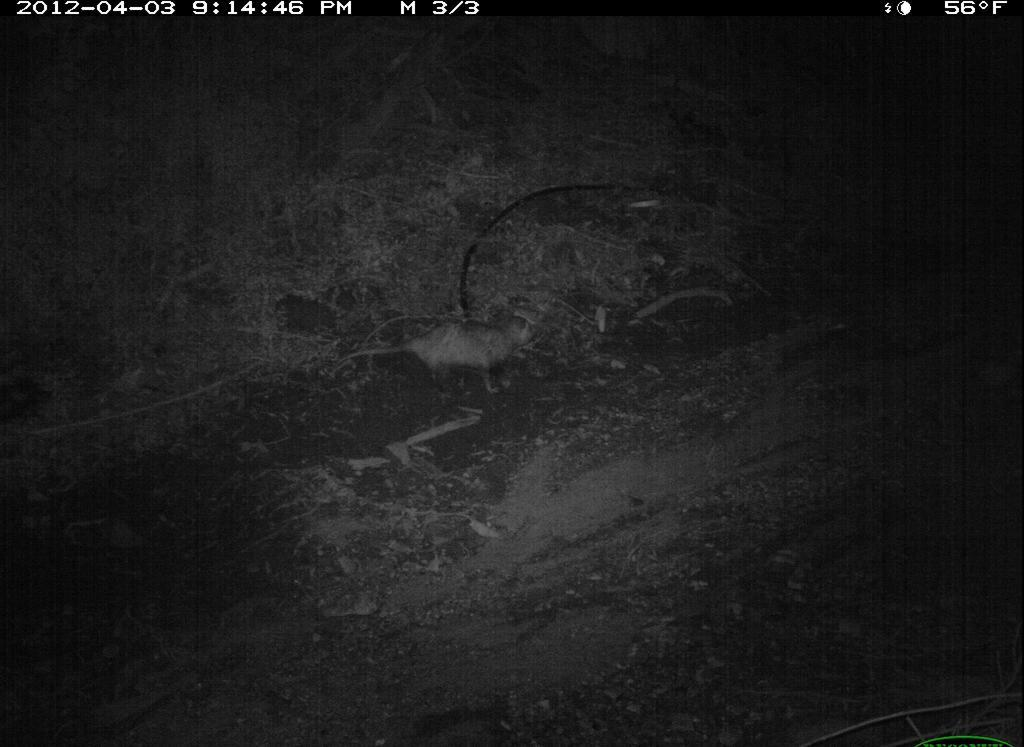opossum: (324, 304, 552, 396)
